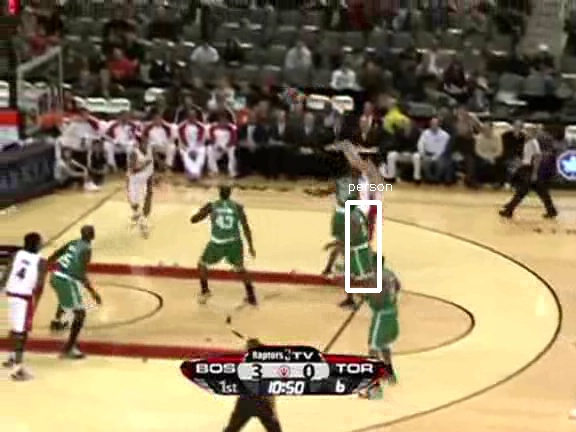person: (344, 205, 378, 286), (343, 205, 377, 286), (345, 205, 379, 286), (344, 204, 378, 285), (344, 206, 378, 287)
target_negative: (284, 70, 488, 432), (399, 57, 497, 304), (396, 350, 532, 415), (453, 134, 499, 229), (515, 162, 532, 244), (566, 308, 573, 345)
